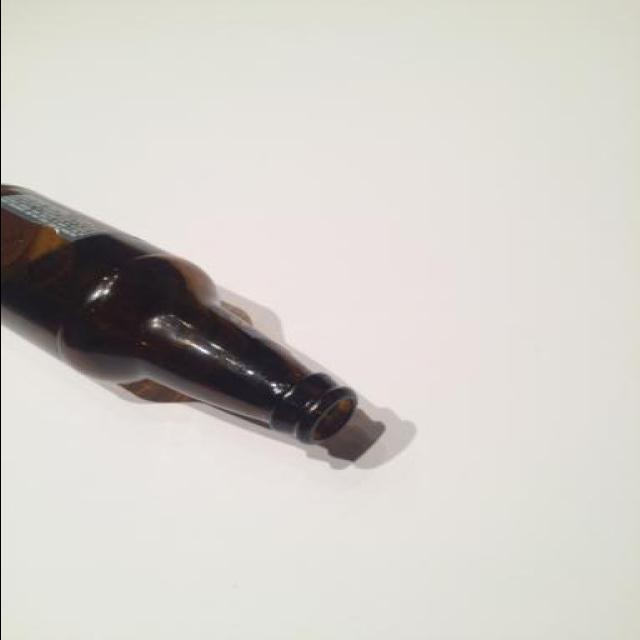Glass Bottle: (9, 166, 358, 454)
